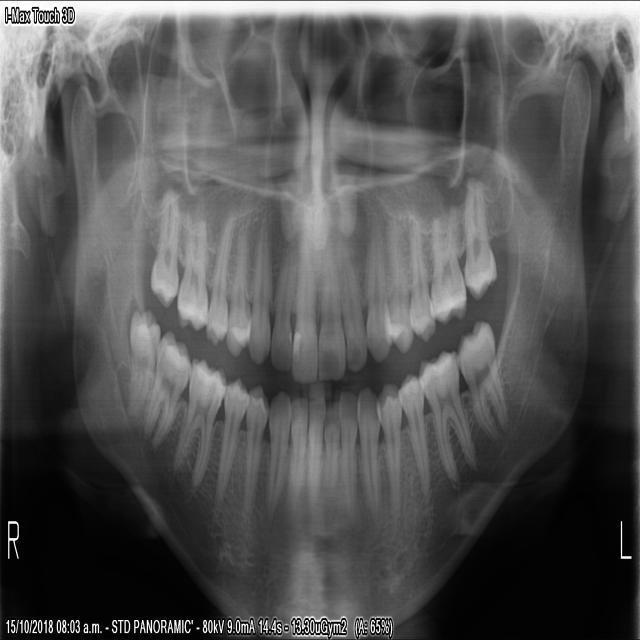LCD: (354, 383, 380, 524)
LCU: (363, 210, 392, 363)
LID: (336, 389, 360, 523), (321, 396, 341, 498)
LIU: (316, 236, 345, 382), (337, 237, 367, 373)
LMD: (415, 343, 478, 491), (452, 315, 508, 442)
LMU: (426, 200, 466, 328), (461, 172, 497, 302)
LPMD: (394, 370, 429, 497), (372, 380, 401, 514)
LPMU: (381, 203, 413, 356), (406, 208, 435, 345)
RCD: (264, 387, 291, 527)
RCU: (243, 220, 270, 366)
RID: (286, 393, 307, 503), (305, 392, 325, 503)
RIU: (290, 234, 316, 384), (268, 239, 295, 372)
RMD: (169, 352, 226, 488), (140, 326, 190, 447), (124, 304, 161, 414)
RMU: (174, 213, 208, 333), (147, 185, 178, 309)
RPMD: (212, 372, 249, 513), (241, 380, 270, 517)
RPMU: (203, 207, 233, 349), (224, 228, 250, 358)
